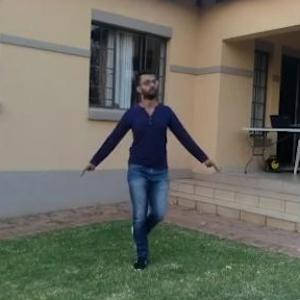land: (81, 73, 214, 267)
